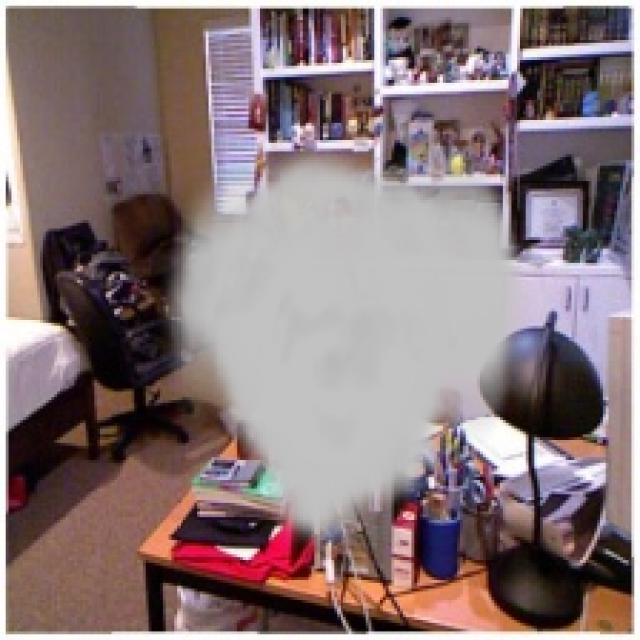smoke: (154, 146, 529, 551)
